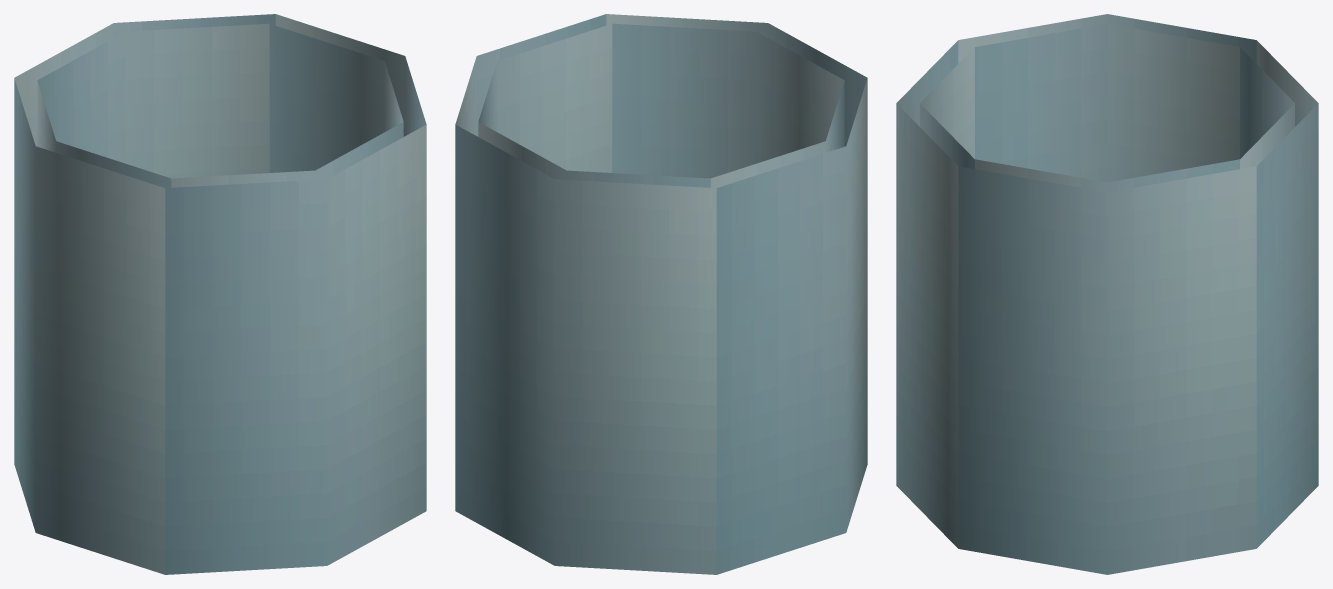
The model's file is transductTrans.obj.
The picture shows the model from 3 angles, left to right: view 1: azimuth 30°, elevation 25°; view 2: azimuth 150°, elevation 25°; view 3: azimuth 270°, elevation 25°; orthographic projection.
Parts seen in each view (by area): view 1: Tube001; view 2: Tube001; view 3: Tube001.
Boxes of the visible parts, x1=… form: Tube001: x1=14, y1=14, x2=426, y2=574; Tube001: x1=455, y1=14, x2=867, y2=574; Tube001: x1=896, y1=14, x2=1318, y2=574.
Size of the model in its own units: 0.9 by 0.9 by 0.9.
